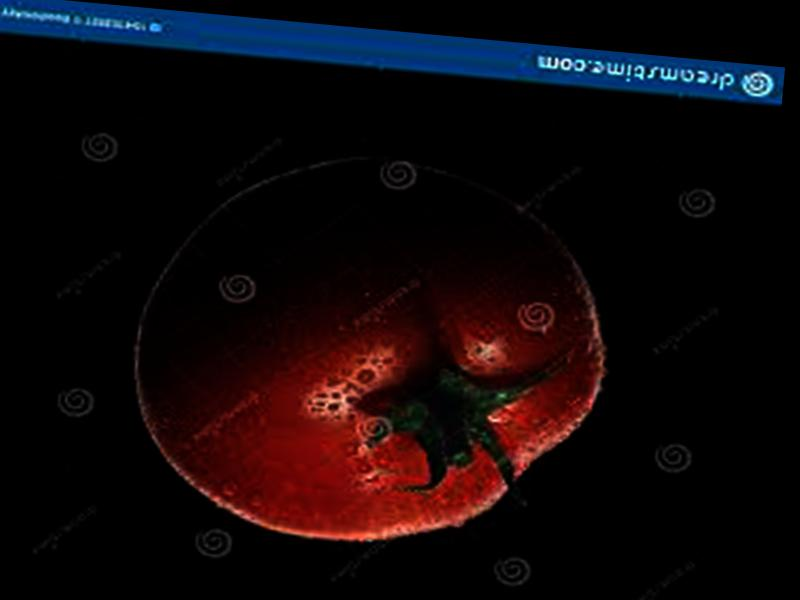Tomato: (116, 139, 623, 565)
